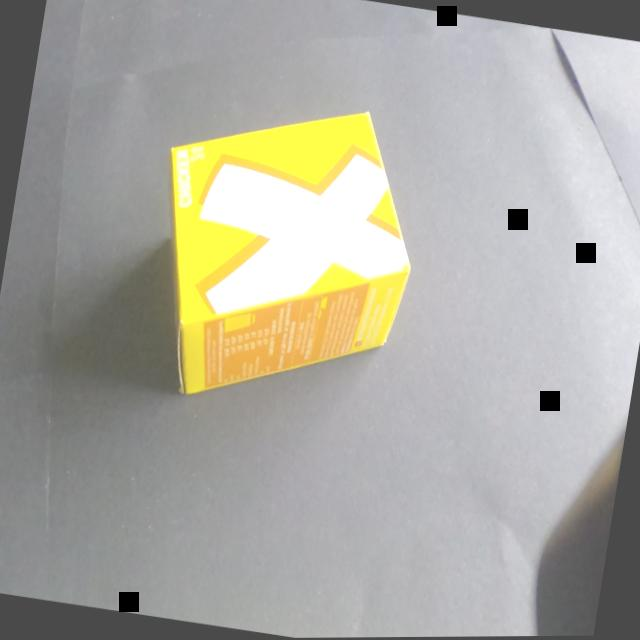Chickenstock: (113, 45, 453, 470)
